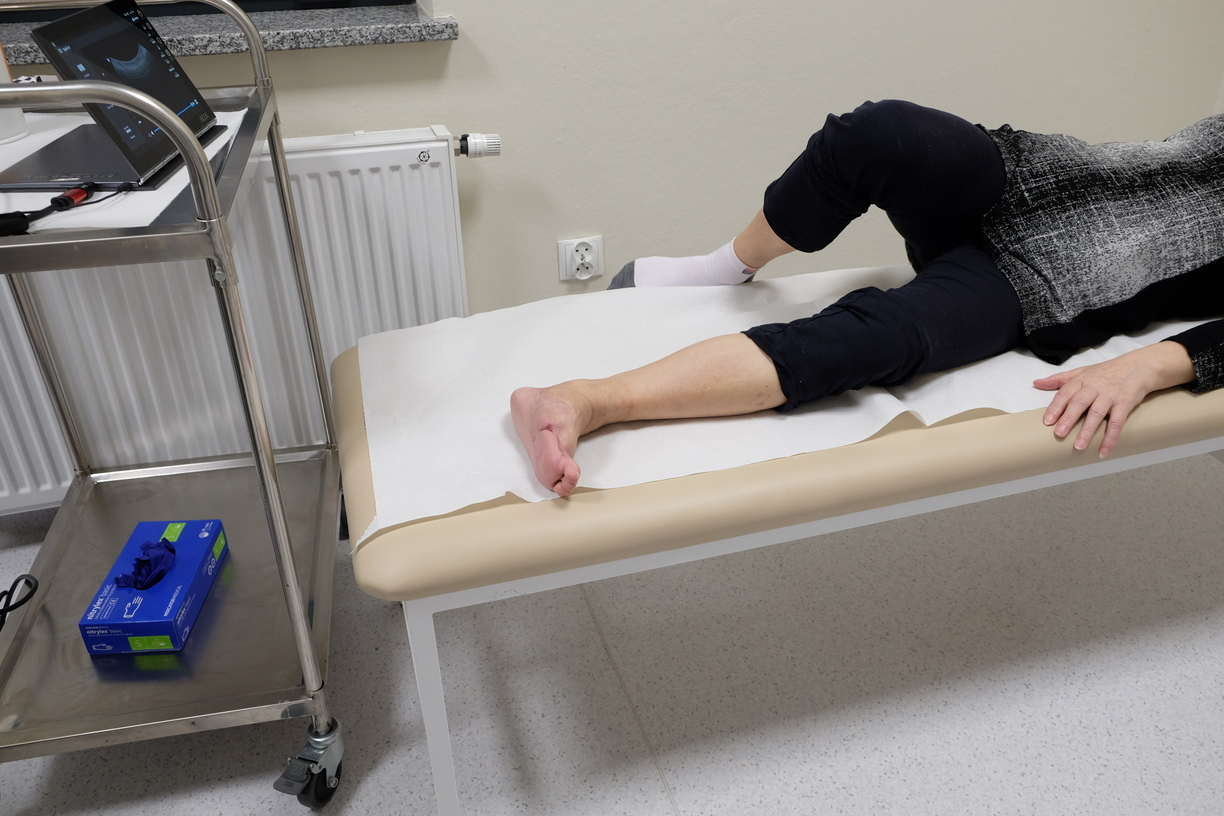wound: (533, 415, 559, 442)
